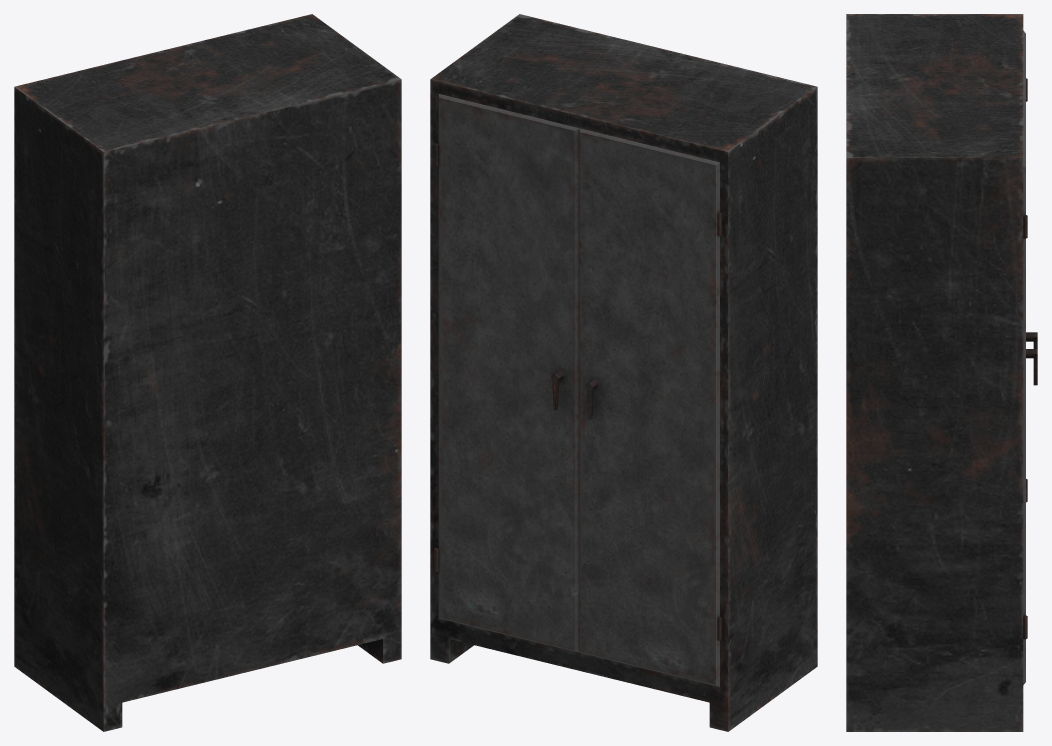
The model's file is DoubleCab.FBX.
The picture shows the model from 3 angles, left to right: view 1: azimuth 30°, elevation 25°; view 2: azimuth 150°, elevation 25°; view 3: azimuth 270°, elevation 25°; orthographic projection.
Parts seen in each view (by area): view 1: DoubleCab; view 2: DoubleCab; view 3: DoubleCab.
Part boxes in pixels (x1,y1,x2,y2): DoubleCab: (14,14,401,731); DoubleCab: (430,14,817,731); DoubleCab: (846,14,1037,731).
Bounding box in the file's own units: 114 × 212 × 64.06.
